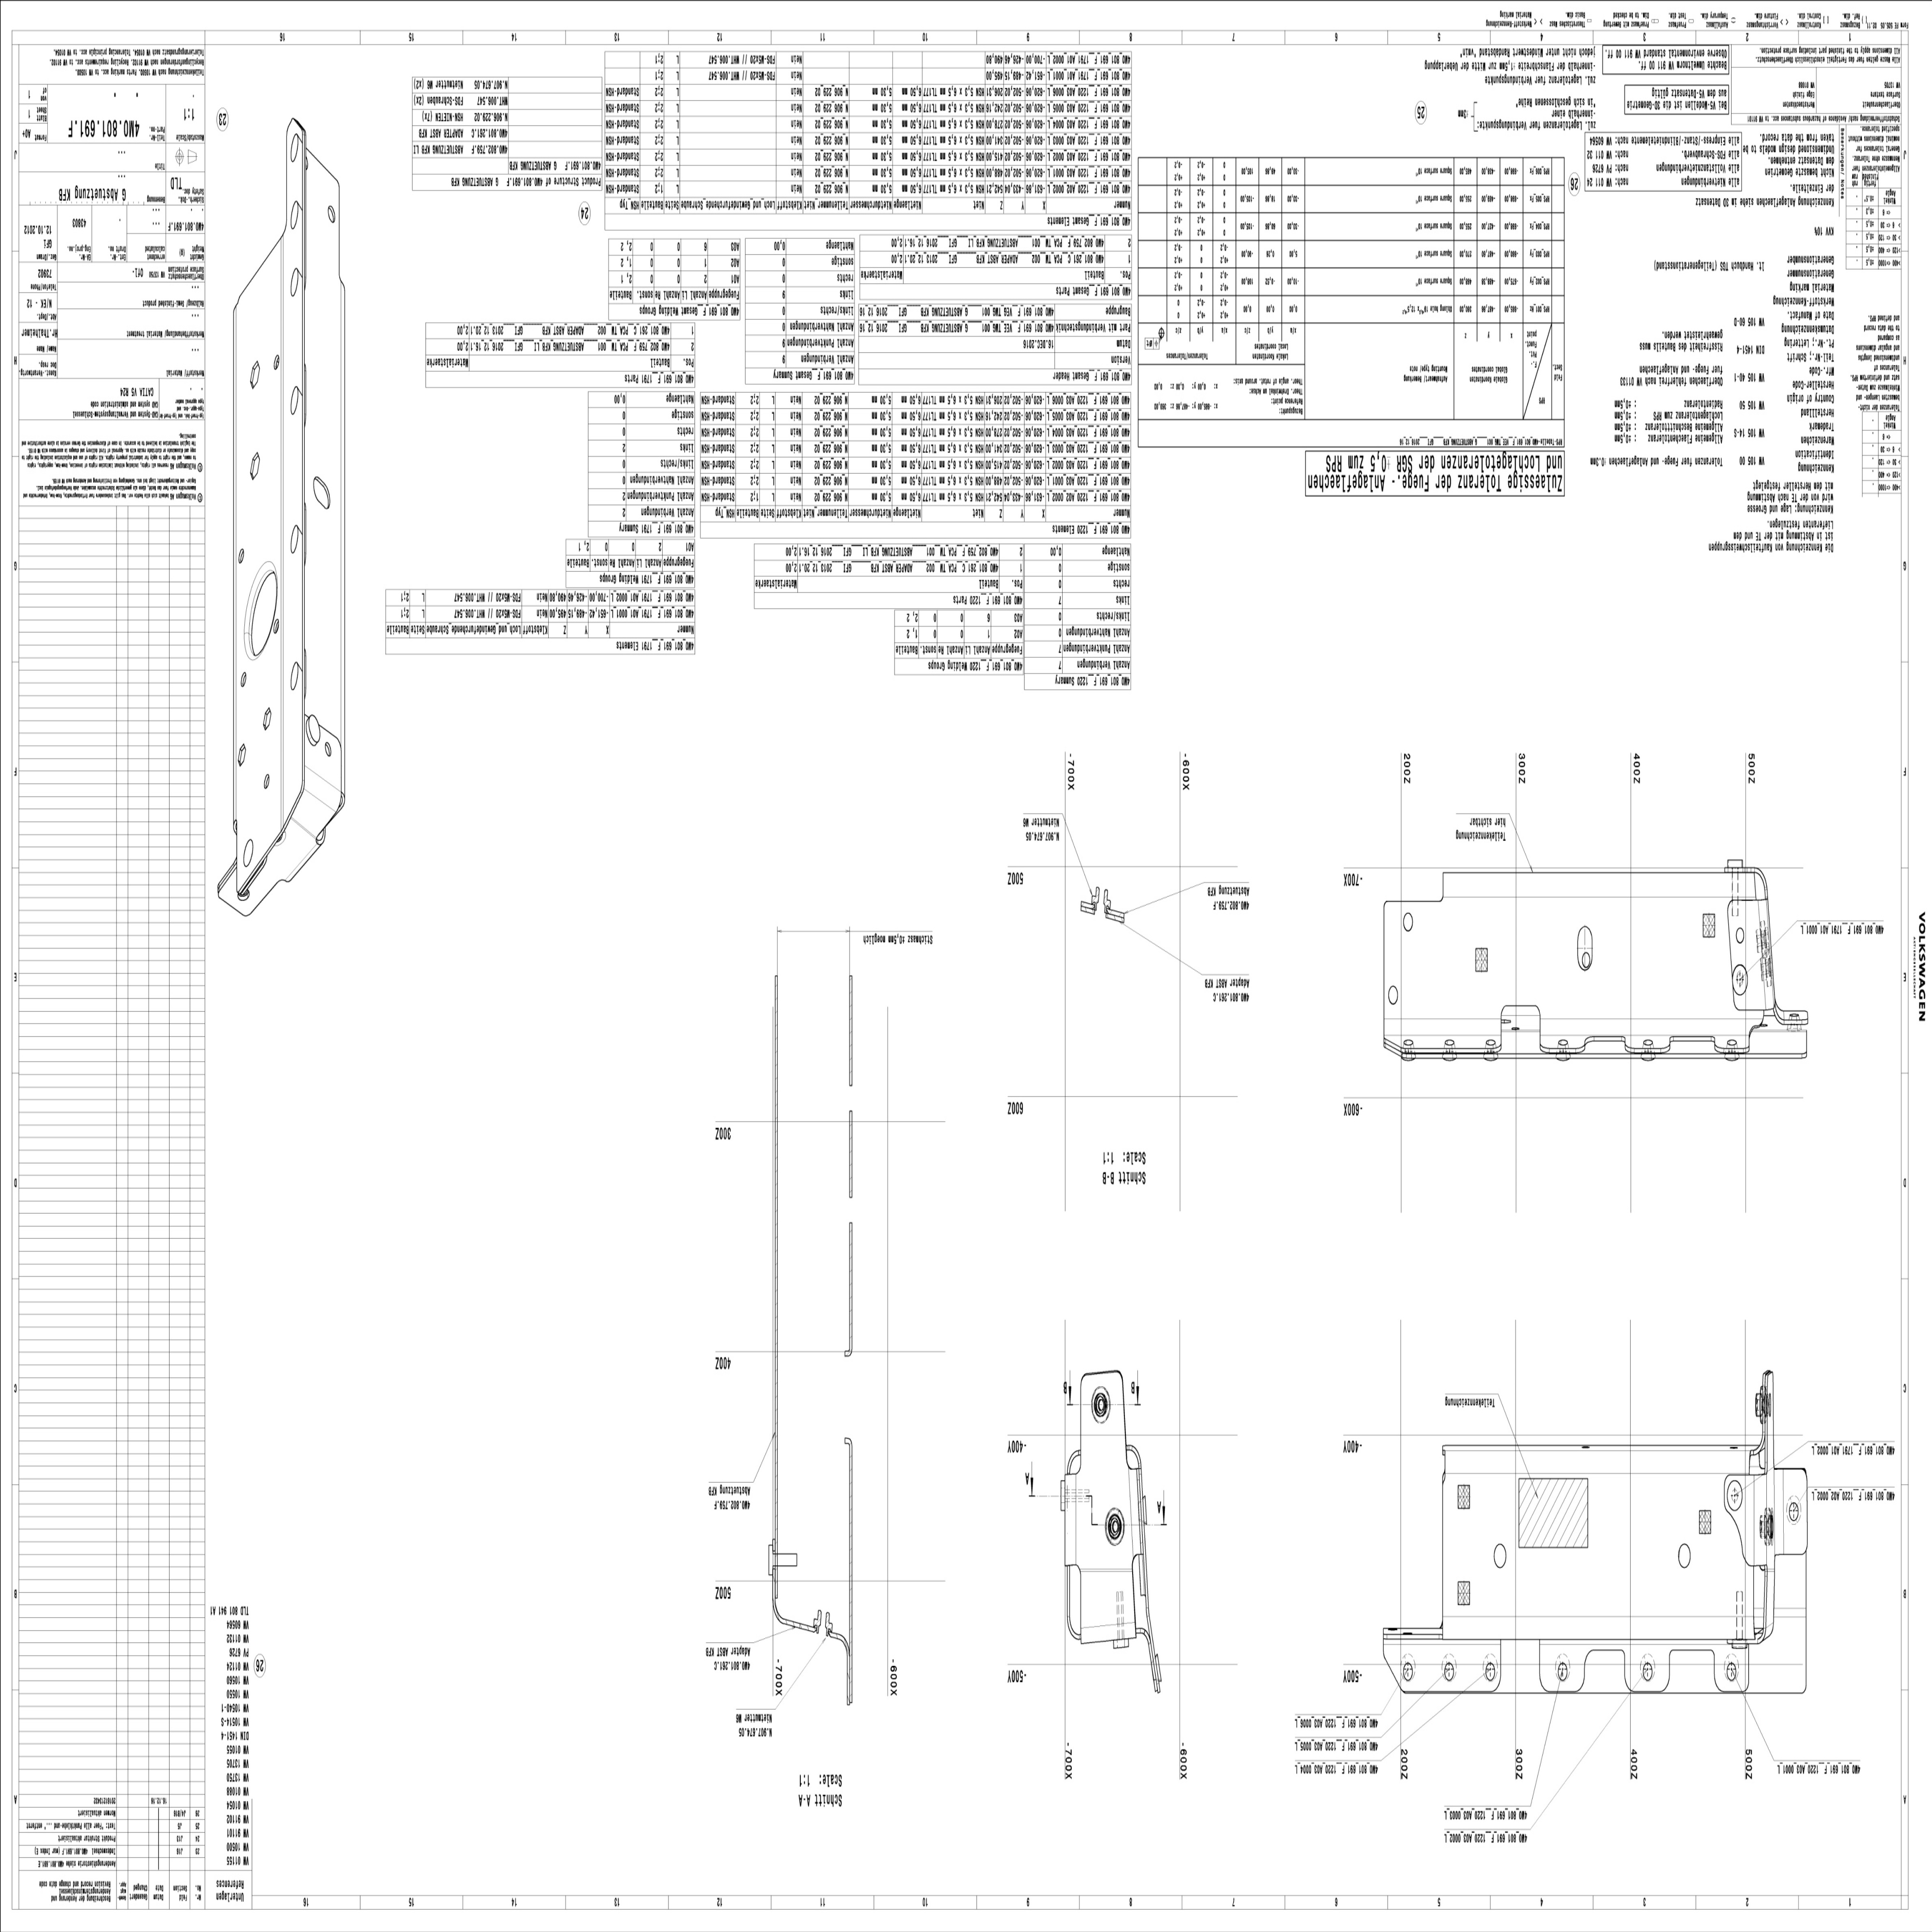BendingEdge: (280, 241, 283, 833), (295, 771, 349, 810), (232, 315, 235, 862), (288, 839, 326, 881), (1079, 1566, 1132, 1571)
InnerContour: (304, 472, 336, 513), (1573, 920, 1594, 975), (287, 658, 303, 695), (287, 382, 303, 418), (287, 264, 303, 299), (241, 835, 257, 869), (1490, 1541, 1509, 1568), (1677, 1541, 1693, 1569), (290, 198, 301, 232), (290, 133, 301, 163), (290, 520, 299, 556), (1387, 984, 1401, 1005), (1723, 1660, 1737, 1681), (1403, 911, 1415, 934), (1640, 1658, 1652, 1681), (1789, 1497, 1799, 1523), (1734, 925, 1748, 945), (324, 202, 336, 223), (1557, 1661, 1569, 1681), (1640, 1033, 1654, 1049), (1444, 1663, 1456, 1681), (1484, 1663, 1497, 1681), (326, 740, 336, 759), (1481, 1037, 1499, 1047), (239, 671, 249, 688), (1442, 1037, 1458, 1047), (1403, 1663, 1414, 1679), (262, 773, 272, 789), (1557, 1039, 1571, 1049), (272, 354, 281, 370), (235, 548, 244, 563), (1727, 1037, 1737, 1047), (1401, 1039, 1414, 1047), (288, 297, 292, 297)
InnerContourAngular: (246, 359, 264, 389), (248, 451, 262, 481), (237, 741, 248, 770), (262, 706, 272, 731)
Notch: (1661, 1647, 1720, 1693), (1578, 1647, 1631, 1691), (1497, 1007, 1545, 1053), (1667, 1035, 1720, 1054), (1582, 1033, 1629, 1054)
ThroughHole: (232, 556, 283, 667)
